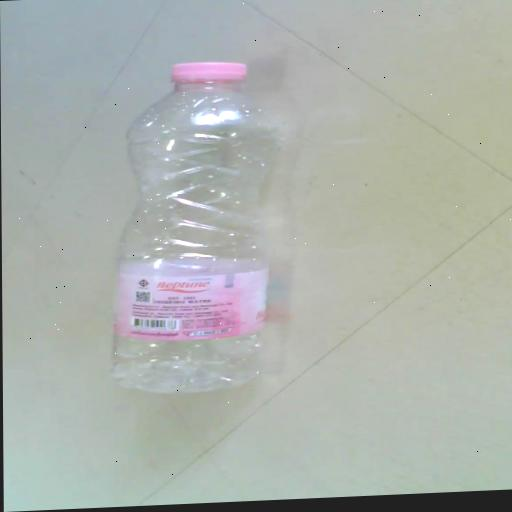bottle: (91, 37, 282, 421)
